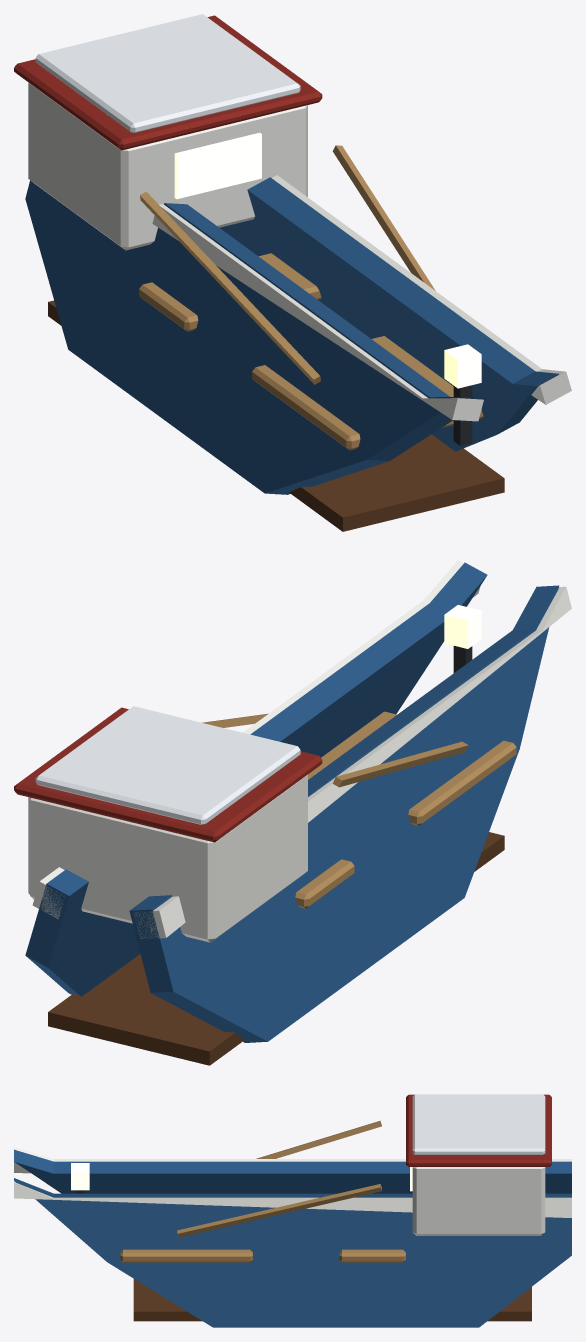
The model's file is boat.glb.
The picture shows the model from 3 angles, top to bottom: view 1: azimuth 30°, elevation 25°; view 2: azimuth 150°, elevation 25°; view 3: azimuth 270°, elevation 25°; orthographic projection. The views are drawn at different scales.
Parts seen in each view (by area): view 1: boat; view 2: boat; view 3: boat.
Part boxes in pixels (bbox=[...]): boat: bbox=[14, 14, 571, 531]; boat: bbox=[14, 560, 571, 1065]; boat: bbox=[14, 1094, 571, 1327].
Size of the model in its own units: 1.2 by 1.48 by 4.2.
